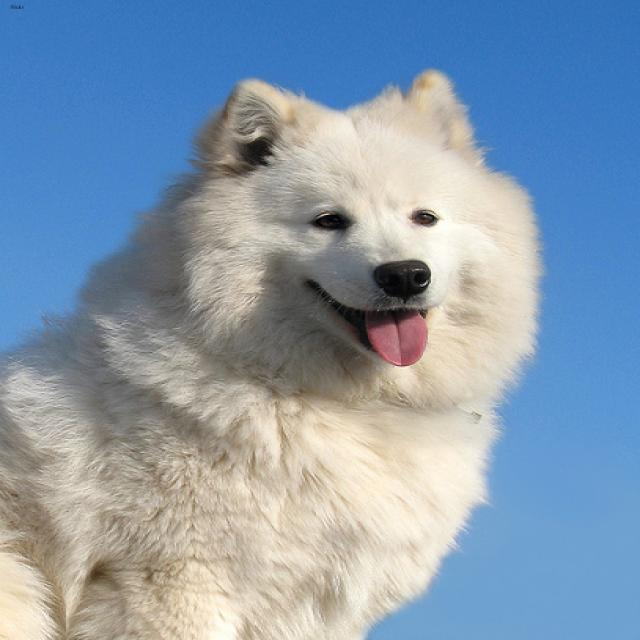dog-samoyed: (2, 61, 549, 637)
